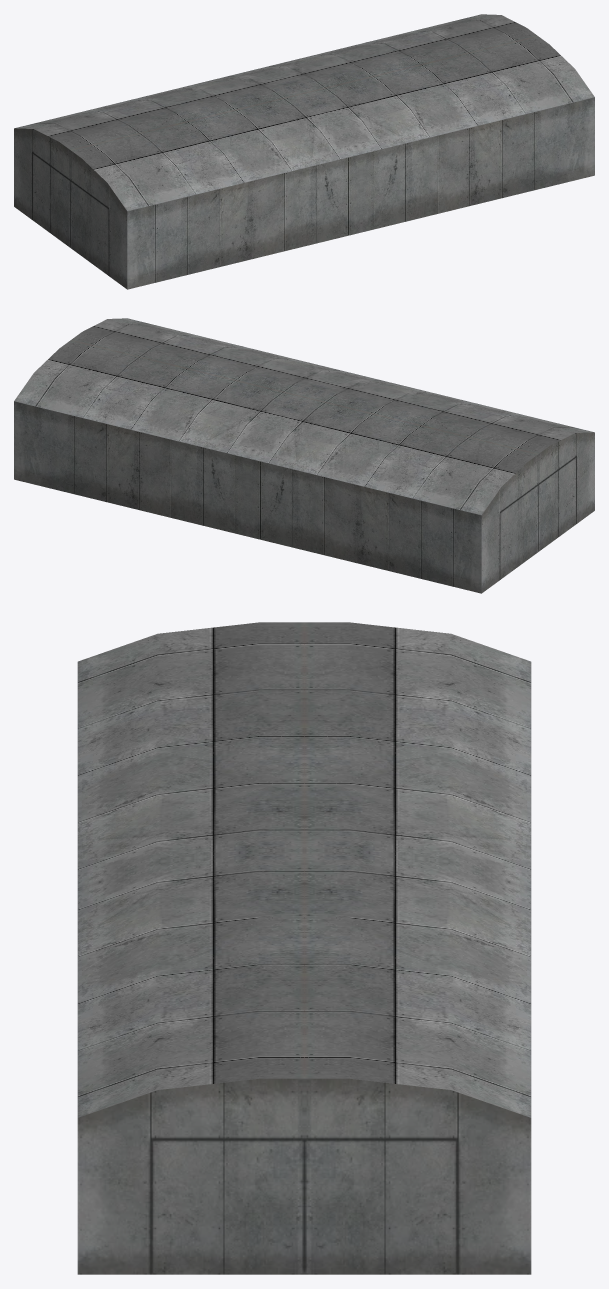
File: factoryShed.glb
3 renders of one model, top to bottom at view 1: azimuth 30°, elevation 25°; view 2: azimuth 150°, elevation 25°; view 3: azimuth 270°, elevation 25°, orthographic. The views are drawn at different scales.
Visible parts, largest first — view 1: factoryShed; view 2: factoryShed; view 3: factoryShed.
Part boxes in pixels (bbox=[...]): factoryShed: bbox=[14, 14, 594, 289]; factoryShed: bbox=[14, 318, 594, 593]; factoryShed: bbox=[77, 622, 531, 1274].
Size of the model in its own units: 50 by 10 by 21.
1 material, 1 textured.
